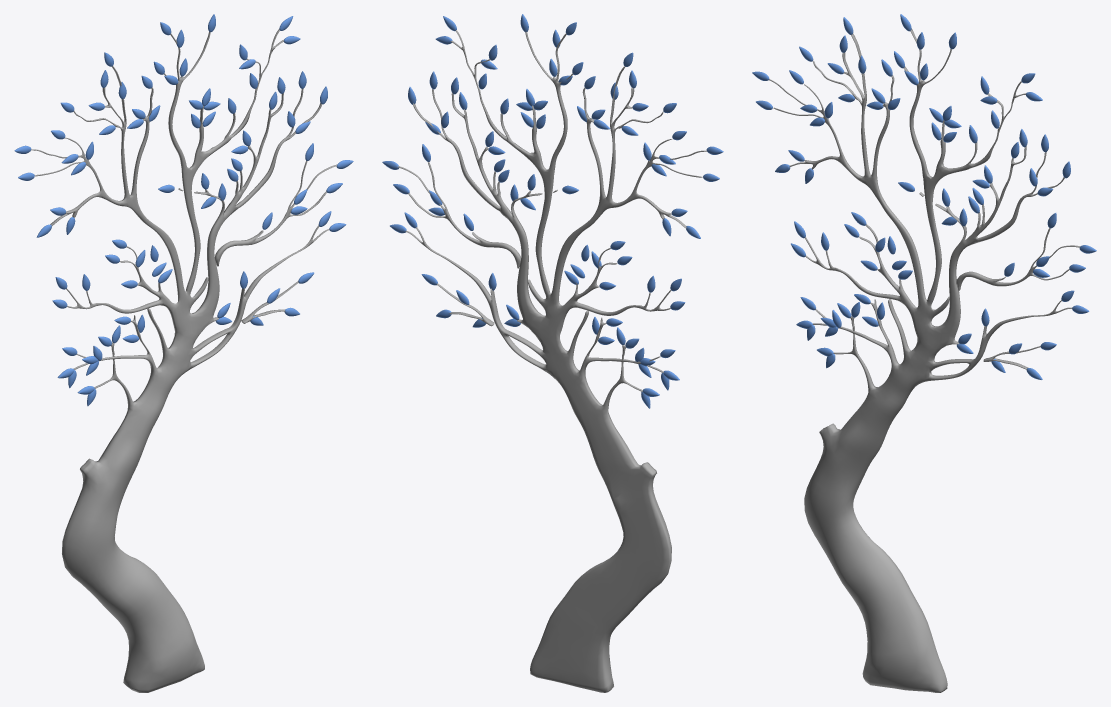
Rendered from evilTree1_withLeaves.fbx.
3 views of the same model, side by side, from view 1: azimuth 30°, elevation 25°; view 2: azimuth 150°, elevation 25°; view 3: azimuth 330°, elevation 25° (orthographic).
Visible parts, largest first — view 1: evilTree1Group2; view 2: evilTree1Group2; view 3: evilTree1Group2.
Boxes of the visible parts, x1,y1,x2,y2 form: evilTree1Group2: (14, 14, 353, 692); evilTree1Group2: (382, 14, 723, 692); evilTree1Group2: (752, 14, 1096, 692).
Bounding box in the file's own units: 19.22 × 35.72 × 1.74.
